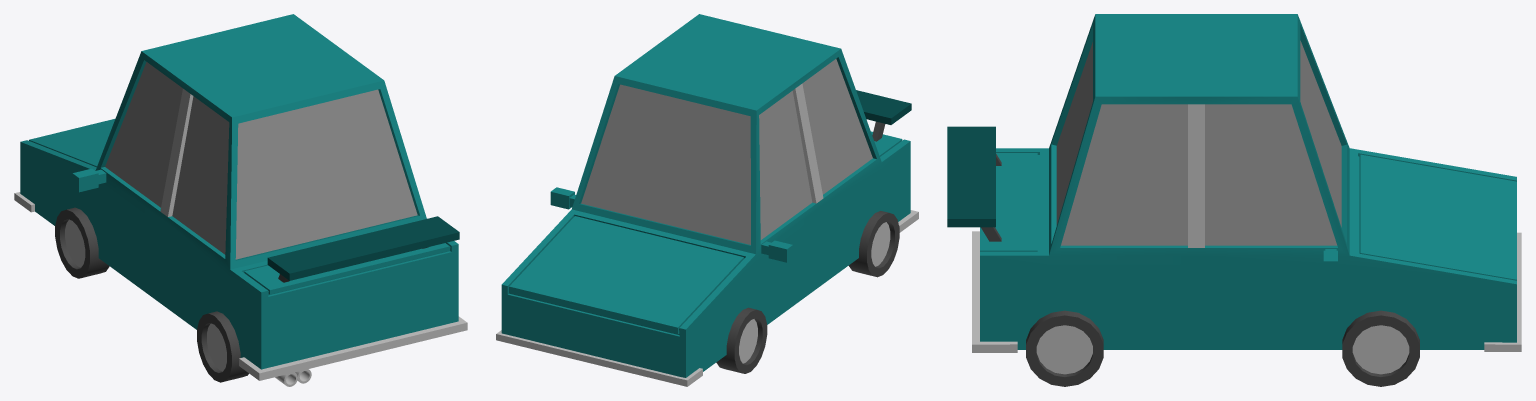
The model's file is M_Car.FBX.
3 views of the same model, side by side, from view 1: azimuth 30°, elevation 25°; view 2: azimuth 150°, elevation 25°; view 3: azimuth 270°, elevation 25° (orthographic). The views are drawn at different scales.
Parts seen in each view (by area): view 1: Car; view 2: Car; view 3: Car.
Part boxes in pixels (bbox=[...]): Car: bbox=[14, 14, 467, 386]; Car: bbox=[496, 14, 918, 386]; Car: bbox=[947, 14, 1521, 386].
Size of the model in its own units: 1.44 by 2.53 by 1.33.
